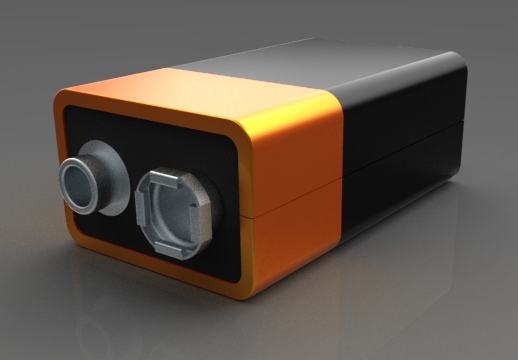9V: (57, 29, 468, 299)
